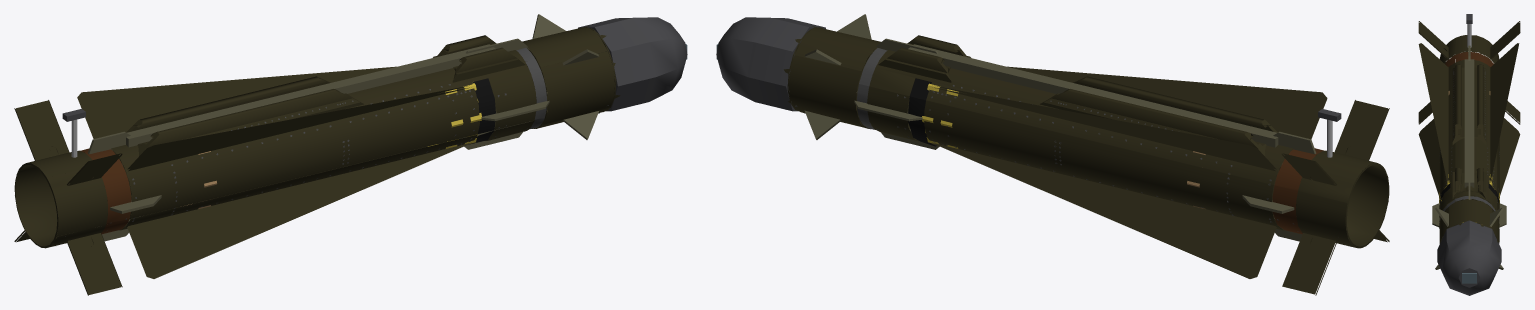
The model's file is agm_3.glb.
3 views of the same model, side by side, from view 1: azimuth 30°, elevation 25°; view 2: azimuth 150°, elevation 25°; view 3: azimuth 270°, elevation 25° (orthographic). The views are drawn at different scales.
Visible parts, largest first — view 1: agm_3; view 2: agm_3; view 3: agm_3.
Boxes of the visible parts, x1=… form: agm_3: x1=14, y1=14, x2=687, y2=295; agm_3: x1=716, y1=14, x2=1389, y2=295; agm_3: x1=1418, y1=14, x2=1520, y2=295.
Bounding box in the file's own units: 1.02 × 0.2273 × 0.2026.
